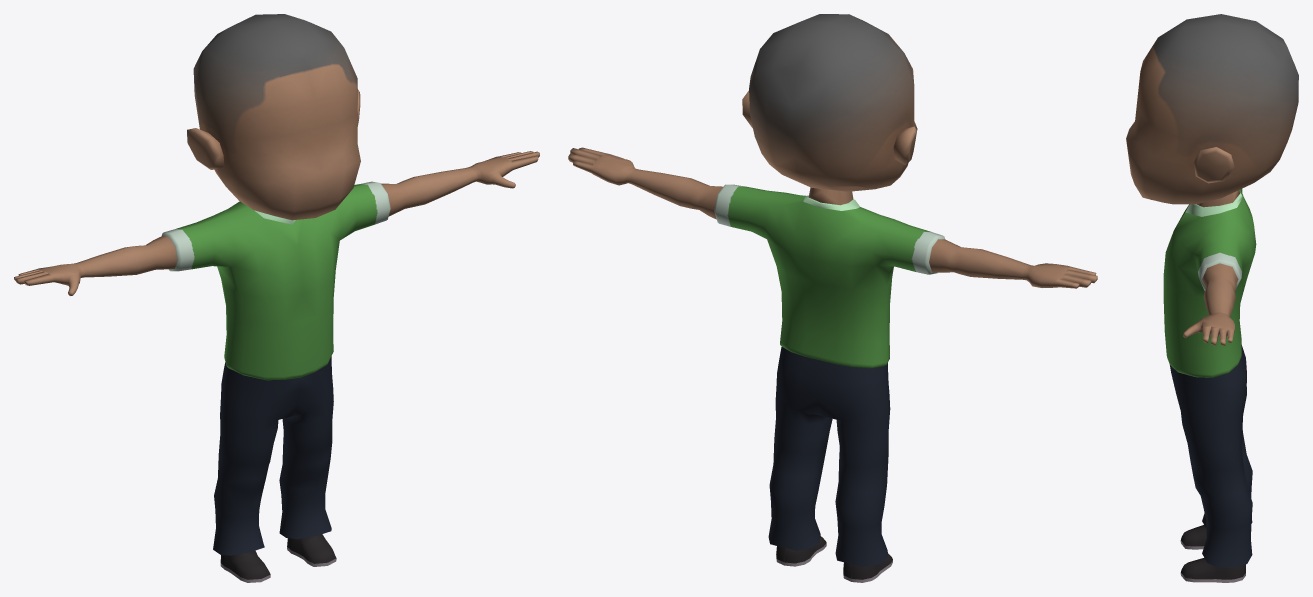
The model's file is human-simple.glb.
The picture shows the model from 3 angles, left to right: view 1: azimuth 30°, elevation 25°; view 2: azimuth 150°, elevation 25°; view 3: azimuth 270°, elevation 25°; orthographic projection.
Visible parts, largest first — view 1: Character; view 2: Character; view 3: Character.
Part boxes in pixels (x1,y1,x2,y2): Character: (14,14,539,582); Character: (568,14,1097,582); Character: (1126,14,1298,582).
Bounding box in the file's own units: 1.52 × 1.5 × 0.4374.
Materials: 1 (1 with a texture image).
